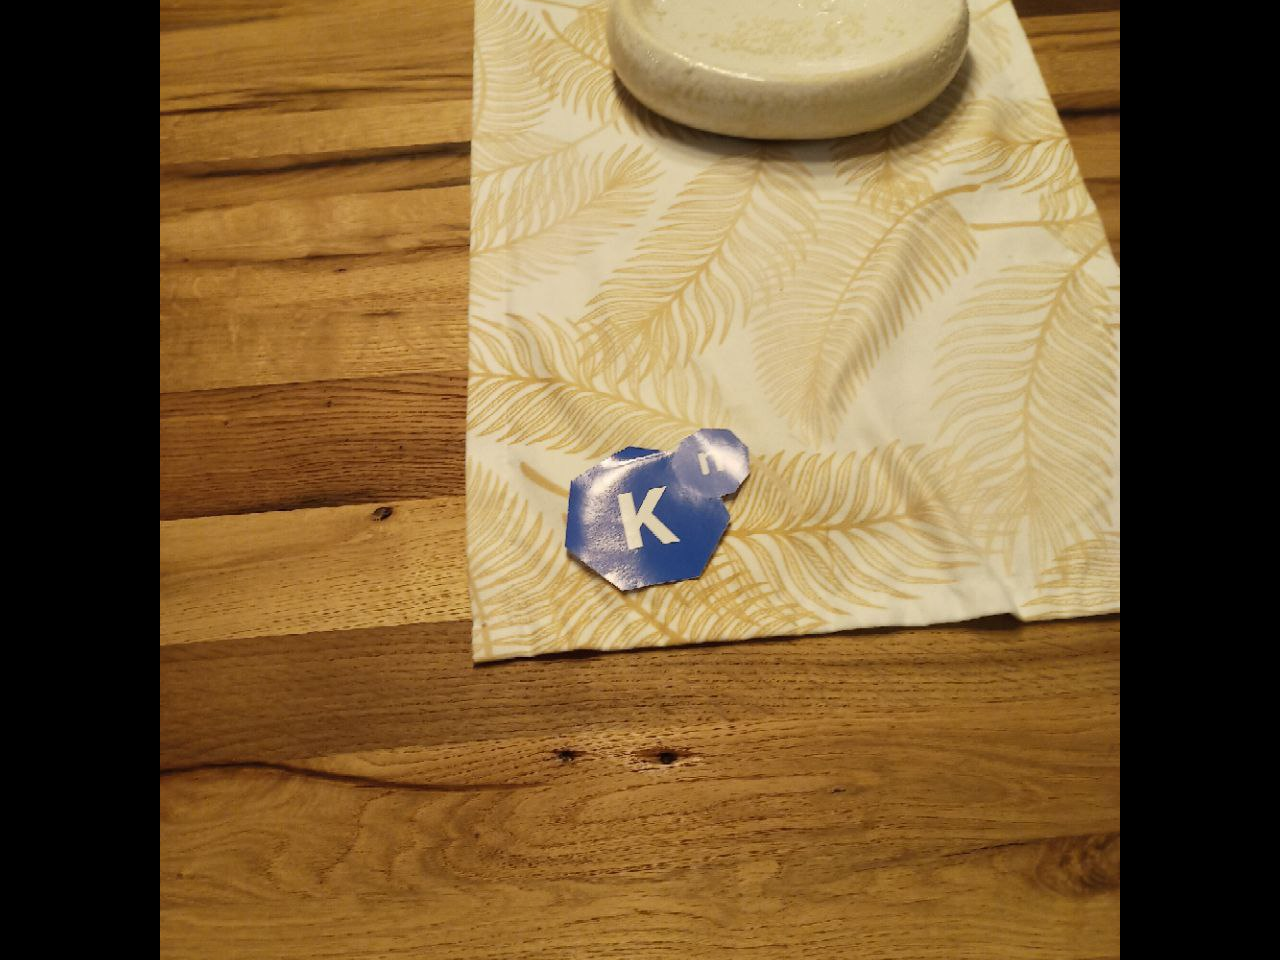knative: (563, 427, 751, 595)
